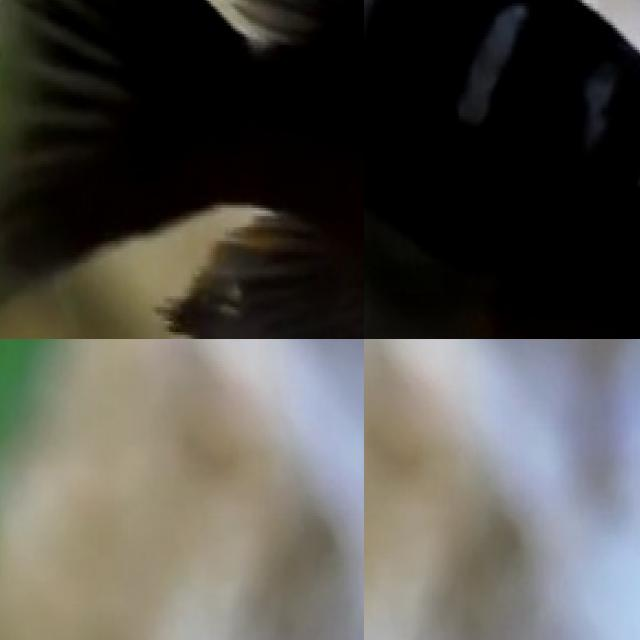fish: (0, 0, 364, 339), (364, 0, 640, 339)
